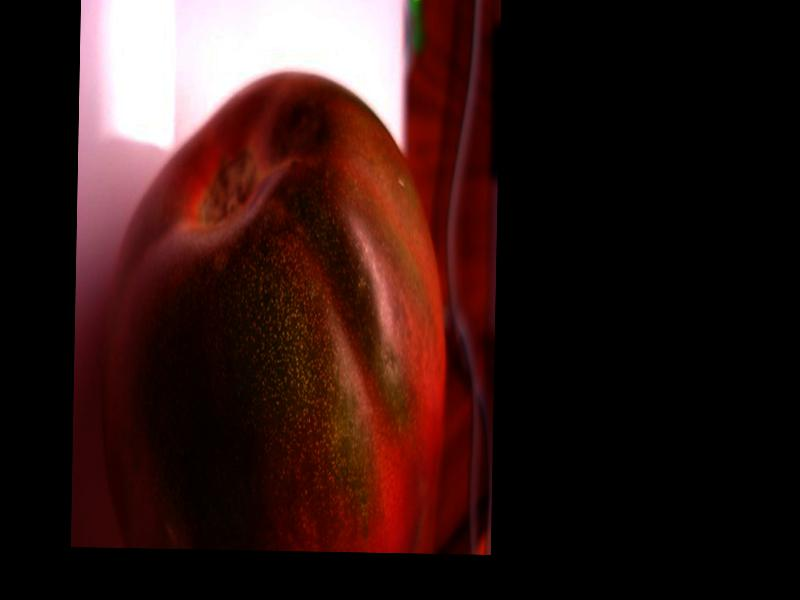Tomato: (99, 70, 452, 552)
